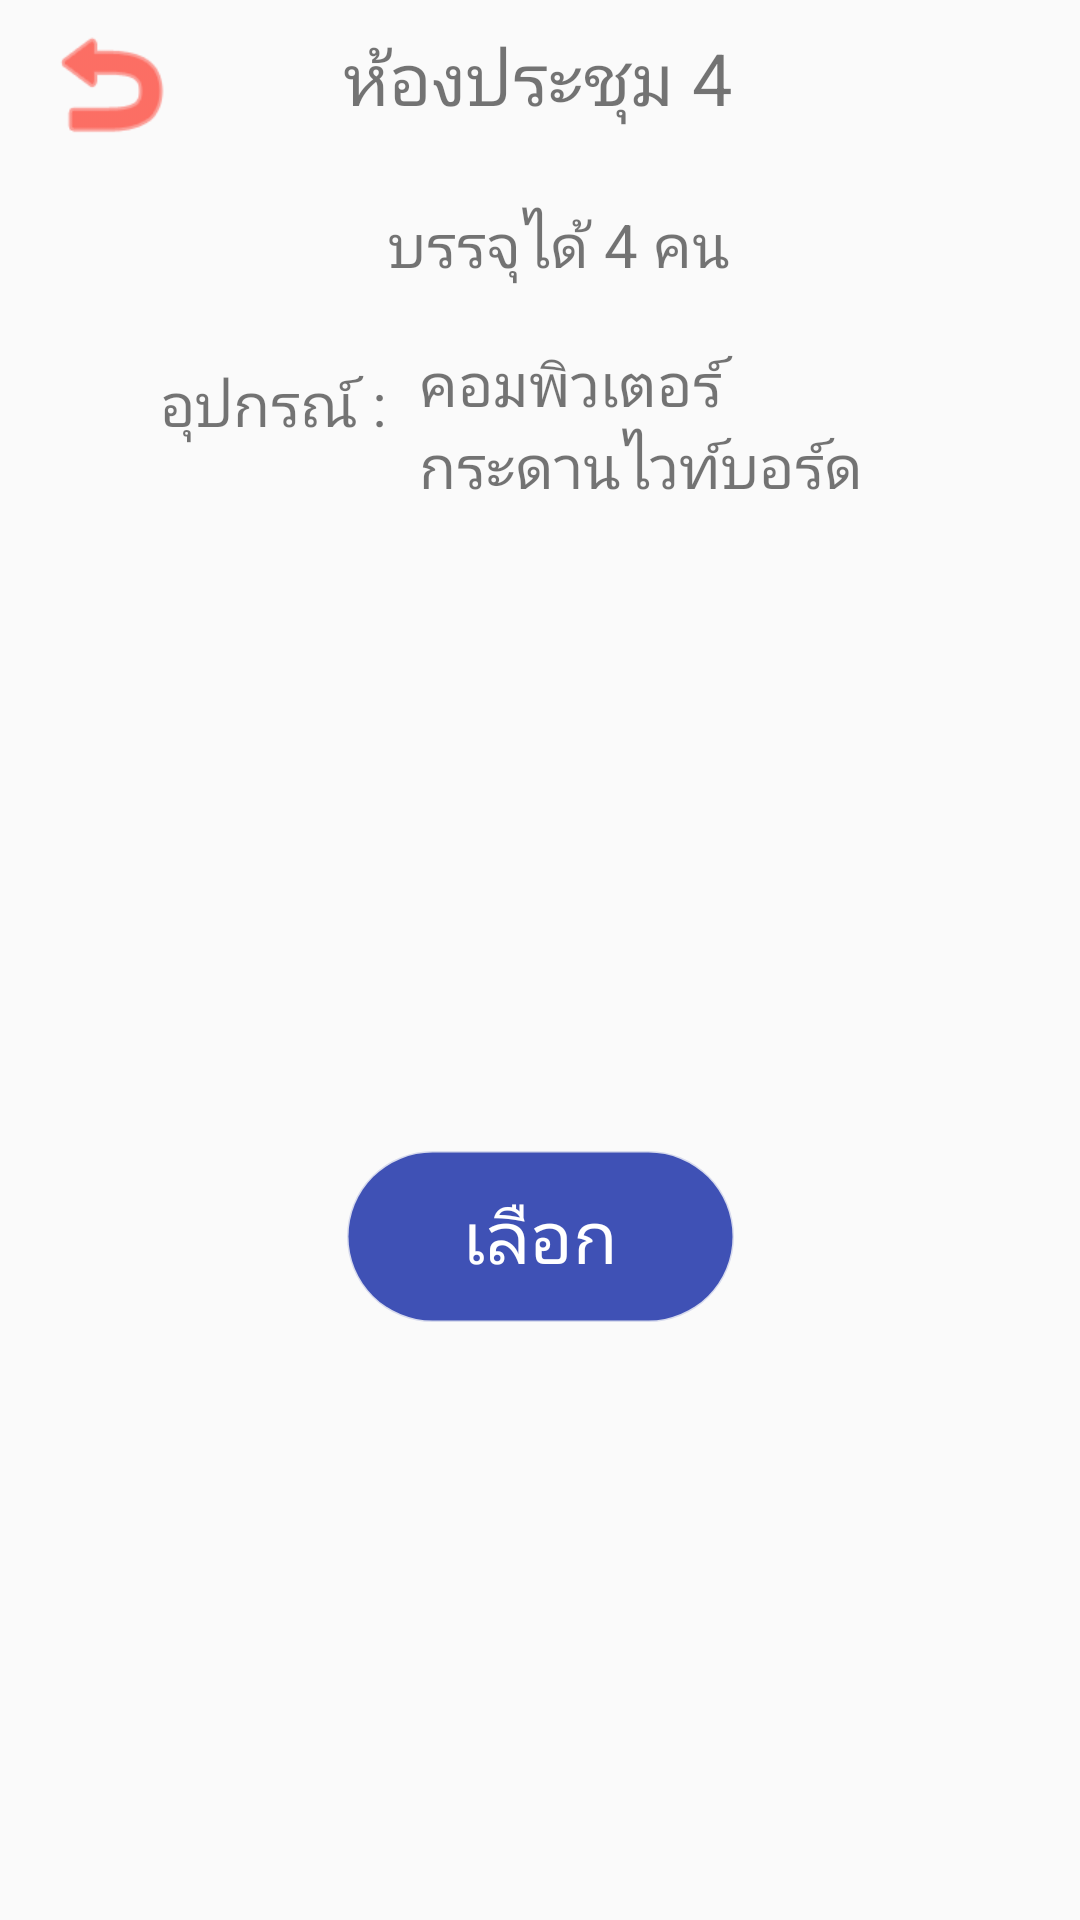

Icons on this 1080x1920 Android screen, each with its box as detection(x1, y1, x2, y2):
revert: detection(61, 38, 163, 132)
